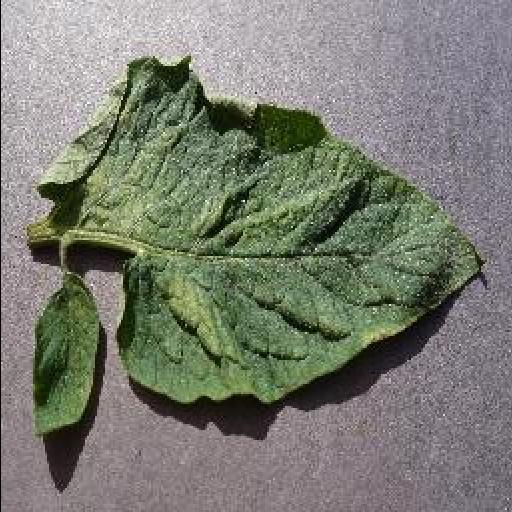disease_tomato: (36, 59, 484, 401)
